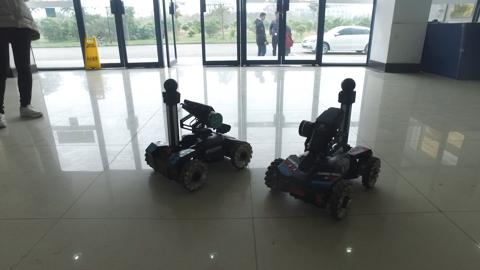chariot: (263, 72, 383, 230), (143, 76, 256, 197)
